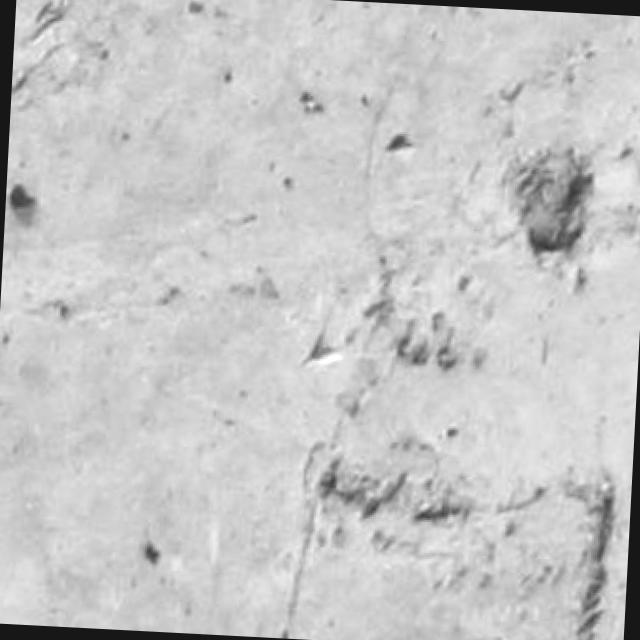crack: (281, 442, 325, 638), (517, 153, 594, 260), (575, 476, 615, 639), (317, 459, 407, 521), (414, 501, 467, 523)
